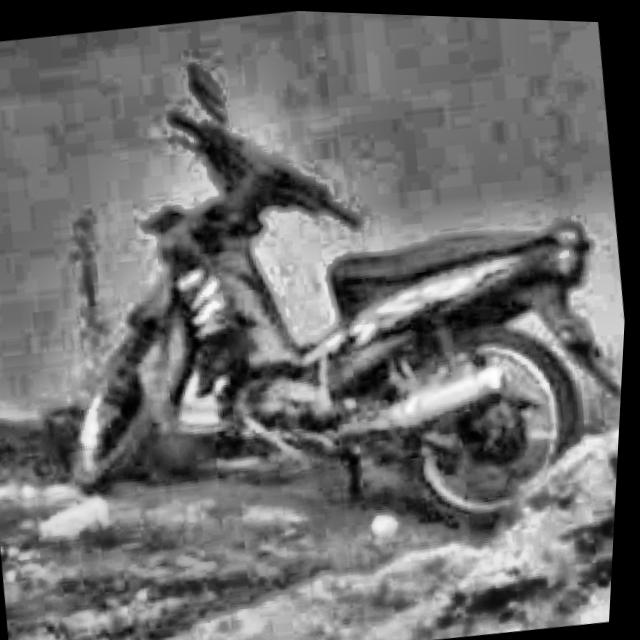motorcycle: (19, 4, 640, 576)
